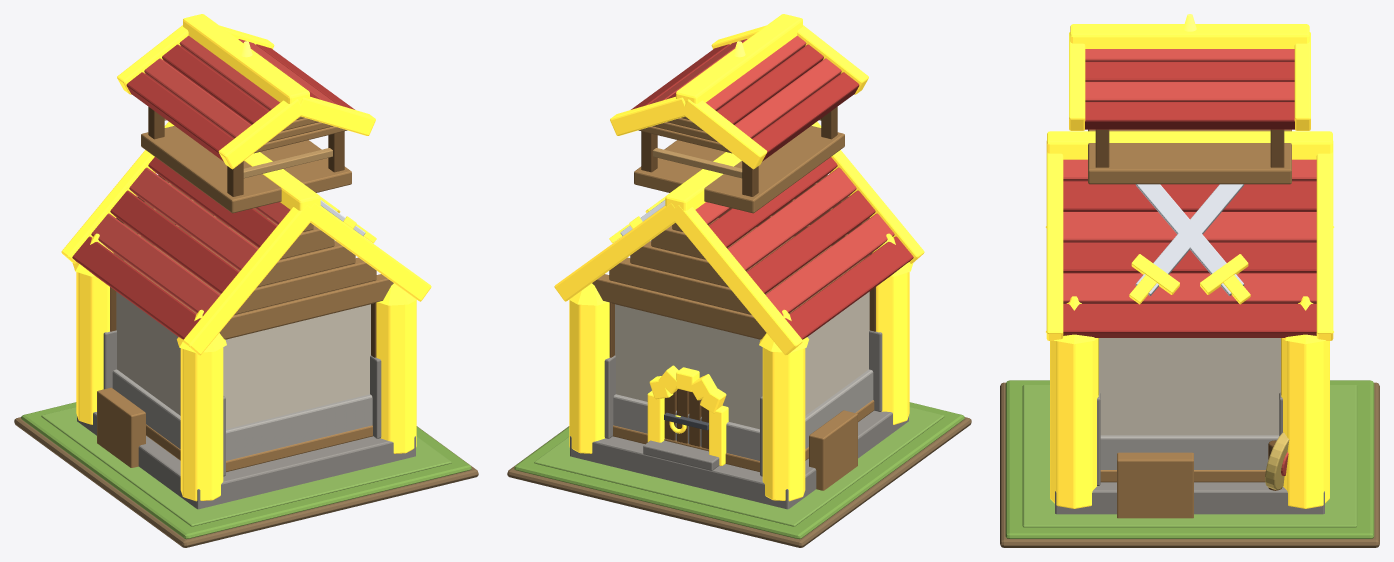
The model's file is barracks_lv6.glb.
3 views of the same model, side by side, from view 1: azimuth 30°, elevation 25°; view 2: azimuth 150°, elevation 25°; view 3: azimuth 270°, elevation 25° (orthographic). The views are drawn at different scales.
Visible parts, largest first — view 1: PlasterCore, Base_Inner, Foundation, Base_Grass, RoofPlatform, BarracksStoneWainscot, BR_Bastion_-1_-1, BR_Bastion_1_-1, Base_Dirt, Bargeboard_-1_-1, BR_Bastion_-1_1, RoofSlope_-1_2 (+28 smaller); view 2: PlasterCore, Base_Inner, Base_Grass, RoofPlatform, Foundation, BR_Bastion_-1_1, BR_Bastion_1_1, Base_Dirt, BR_Bastion_-1_-1, Bargeboard_1_-1, BarracksStoneWainscot, RoofSlope_-1_2 (+31 smaller); view 3: PlasterCore, Base_Inner, Base_Grass, RoofPlatform, RoofSlope_1_5, BR_Bastion_1_-1, BR_Bastion_1_1, RoofSlope_1_2, RoofSlope_1_3, RoofSlope_1_4, RoofSlope_1_3.001, RoofSlope_1_1 (+22 smaller).
Boxes of the visible parts, box(x1,y1,x2,y2) form: PlasterCore: box(116, 291, 370, 429); Base_Inner: box(41, 407, 451, 526); Foundation: box(77, 412, 415, 509); Base_Grass: box(21, 402, 471, 539); RoofPlatform: box(141, 126, 351, 213); BarracksStoneWainscot: box(112, 369, 372, 460); BR_Bastion_-1_-1: box(180, 347, 223, 501); BR_Bastion_1_-1: box(376, 300, 416, 453); Base_Dirt: box(14, 417, 478, 547); Bargeboard_-1_-1: box(183, 205, 314, 355); BR_Bastion_-1_1: box(76, 272, 109, 424); RoofSlope_-1_2: box(129, 167, 258, 270); PlasterCore: box(615, 291, 869, 429); Base_Inner: box(534, 407, 944, 526); Base_Grass: box(514, 402, 964, 539); RoofPlatform: box(634, 126, 844, 213); Foundation: box(570, 410, 908, 509); BR_Bastion_-1_1: box(762, 347, 805, 501); BR_Bastion_1_1: box(569, 300, 609, 453); Base_Dirt: box(507, 417, 971, 547); BR_Bastion_-1_-1: box(876, 272, 909, 424); Bargeboard_1_-1: box(670, 205, 802, 355); BarracksStoneWainscot: box(613, 369, 873, 460); RoofSlope_-1_2: box(727, 167, 856, 270); PlasterCore: box(1099, 338, 1280, 435); Base_Inner: box(1022, 385, 1357, 527); Base_Grass: box(1005, 380, 1374, 538); RoofPlatform: box(1088, 129, 1291, 184); RoofSlope_1_5: box(1063, 304, 1316, 337); BR_Bastion_1_-1: box(1050, 338, 1098, 508); BR_Bastion_1_1: box(1281, 338, 1329, 508); RoofSlope_1_2: box(1063, 212, 1316, 242); RoofSlope_1_3: box(1063, 242, 1316, 273); RoofSlope_1_4: box(1063, 273, 1316, 303); RoofSlope_1_3.001: box(1085, 102, 1294, 129); RoofSlope_1_1: box(1063, 181, 1316, 211).
Size of the model in its own units: 2.76 by 3.64 by 2.76.
